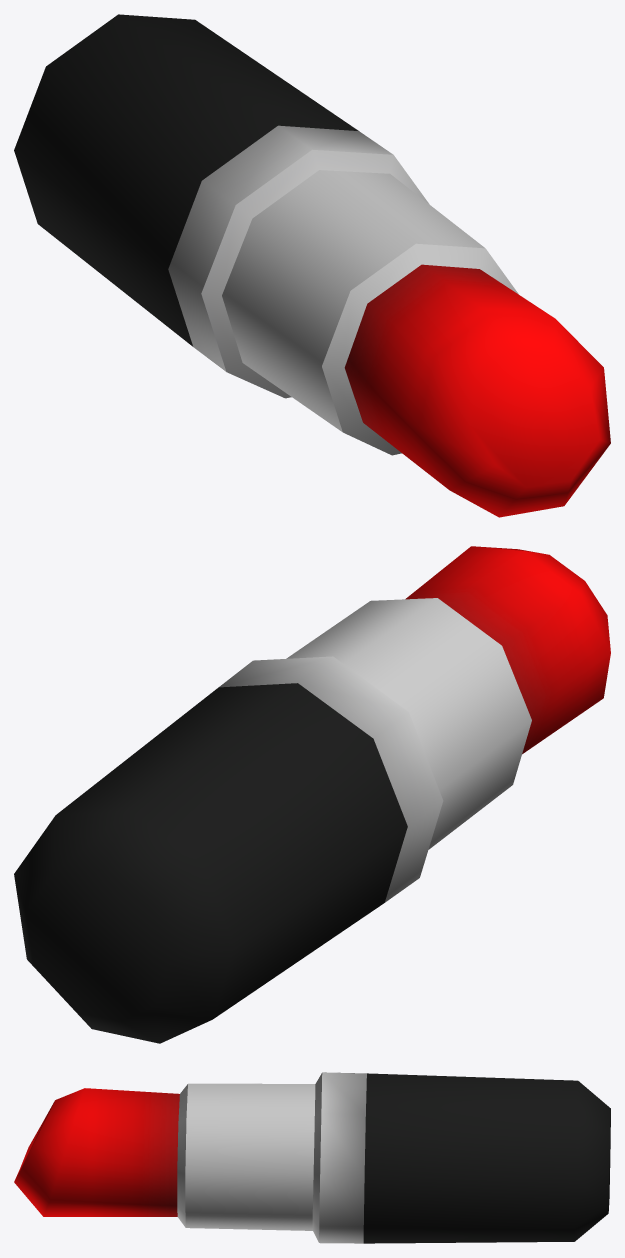
File: LipStick.fbx
3 views of the same model, one above another, from view 1: azimuth 30°, elevation 25°; view 2: azimuth 150°, elevation 25°; view 3: azimuth 270°, elevation 25° (orthographic). The views are drawn at different scales.
Visible parts, largest first — view 1: Lipstick_Hand; view 2: Lipstick_Hand; view 3: Lipstick_Hand.
Boxes of the visible parts, box(x1,y1,x2,y2) form: Lipstick_Hand: box(14, 14, 610, 517); Lipstick_Hand: box(14, 546, 610, 1043); Lipstick_Hand: box(14, 1072, 610, 1243).
Bounding box in the file's own units: 0.1858 × 0.1828 × 0.6293.
